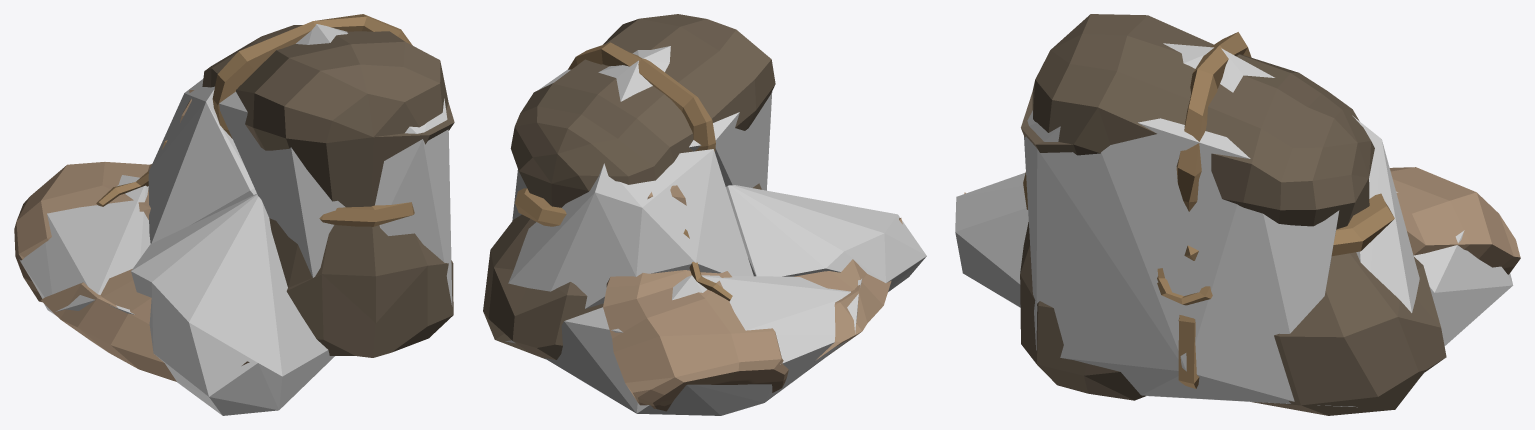
Rendered from SM_Prop_Bundle_09.fbx.
The picture shows the model from 3 angles, left to right: view 1: azimuth 30°, elevation 25°; view 2: azimuth 150°, elevation 25°; view 3: azimuth 270°, elevation 25°; orthographic projection. The views are drawn at different scales.
Visible parts, largest first — view 1: SM_Prop_Bundle_09_ConvexHulls, SM_Prop_Bundle_09; view 2: SM_Prop_Bundle_09, SM_Prop_Bundle_09_ConvexHulls; view 3: SM_Prop_Bundle_09, SM_Prop_Bundle_09_ConvexHulls.
Part boxes in pixels (box(x1,y1,x2,y2)): SM_Prop_Bundle_09_ConvexHulls: box(19, 24, 452, 415); SM_Prop_Bundle_09: box(14, 14, 454, 381); SM_Prop_Bundle_09: box(483, 14, 902, 411); SM_Prop_Bundle_09_ConvexHulls: box(505, 46, 926, 415); SM_Prop_Bundle_09: box(964, 14, 1520, 415); SM_Prop_Bundle_09_ConvexHulls: box(955, 43, 1513, 407).
Bounding box in the file's own units: 177 × 209 × 140.
Materials: 2 (1 with a texture image).
